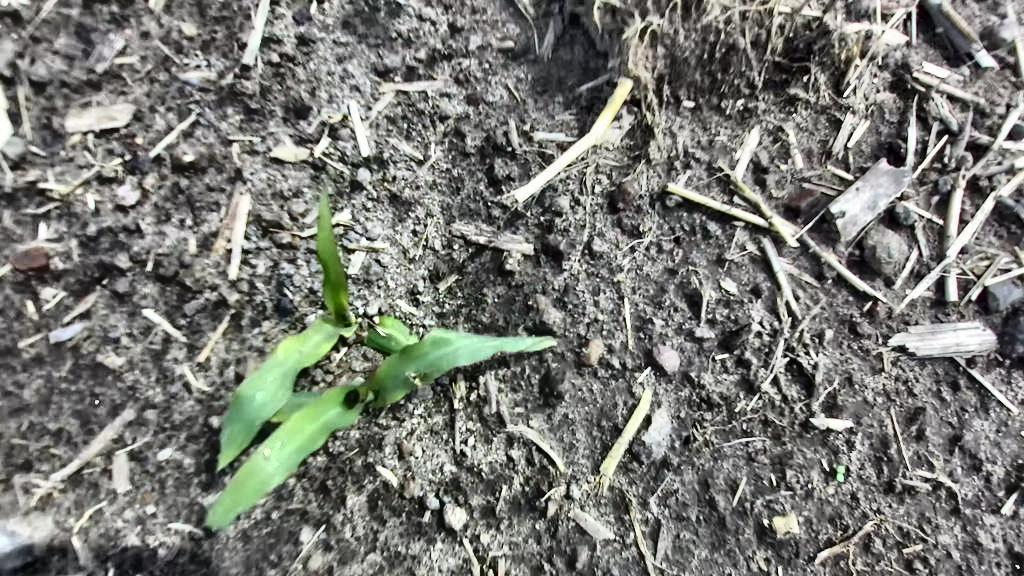BroWeed: (768, 509, 801, 541), (354, 164, 377, 202), (317, 101, 350, 126), (268, 147, 312, 163), (581, 339, 603, 365), (449, 378, 465, 400), (834, 465, 847, 484)
Maize: (168, 268, 559, 539), (117, 186, 424, 473)
